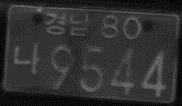0: (122, 15, 142, 41)
4: (140, 47, 168, 99), (109, 43, 136, 95)
5: (79, 45, 104, 93)
8: (100, 12, 119, 40)
9: (52, 44, 75, 90)
경남_O: (44, 11, 91, 37)
나: (13, 40, 40, 75)
